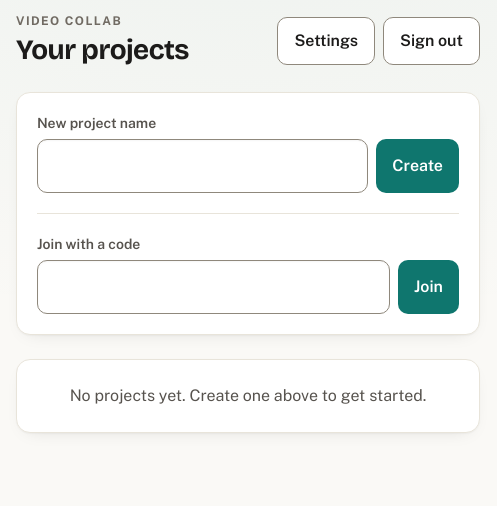
it: ProjectsPage — join with a code › shows the right message for too_many_attempts
This screenshot has width=497, height=506.
Check: the text "No projects yet. Create one above to get started." is shown, box top-left (41, 384), bottom-right (455, 408)
Type "0000" into the field labelled "Join with a code" at (214, 287), box top-left (37, 260), bottom-right (390, 314)
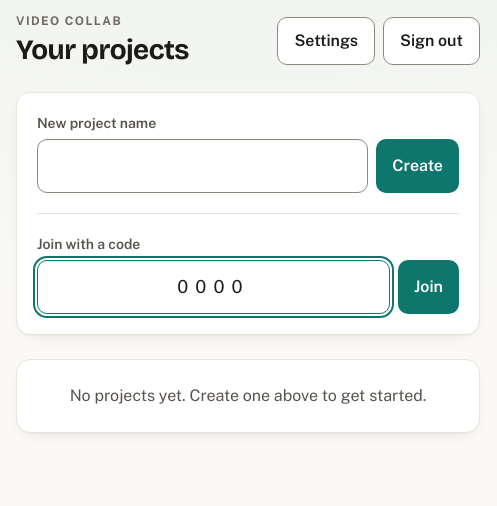
Click the button "Join" at (428, 287), box top-left (398, 260), bottom-right (459, 314)
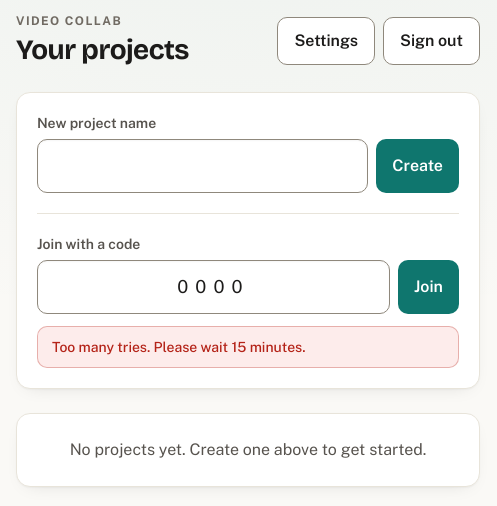
Check: the text "Too many tries. Please wait 15 minutes." is shown, box top-left (37, 326), bottom-right (459, 368)
